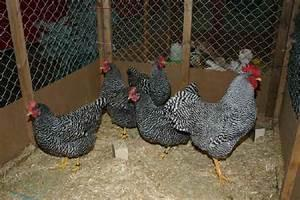hen: (160, 59, 262, 184), (20, 95, 111, 162), (123, 83, 204, 149)
